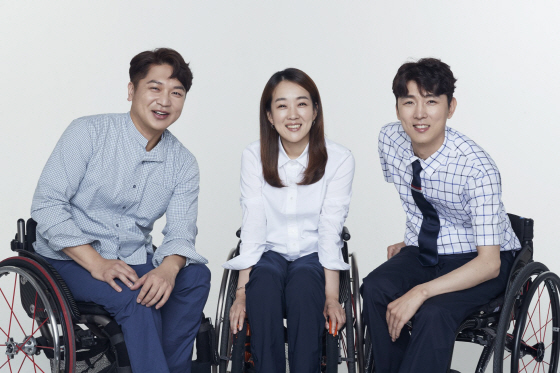wheelchair: (1, 47, 214, 373), (367, 57, 560, 373)
